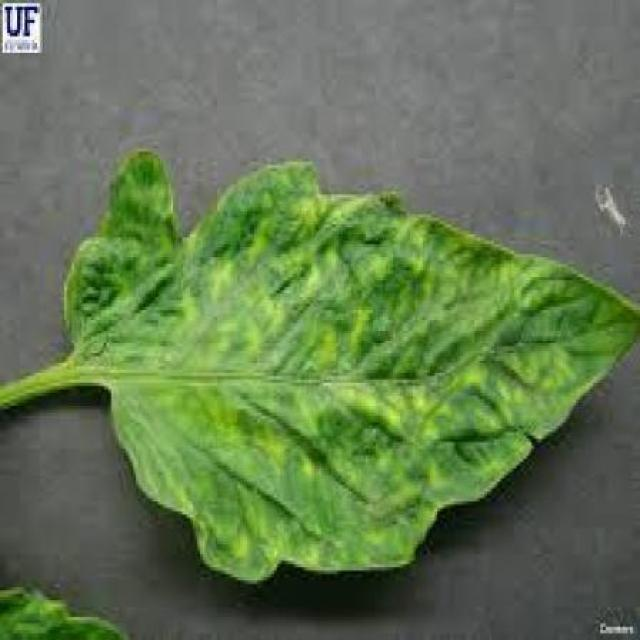Mosaic Virus: (61, 147, 640, 584)
